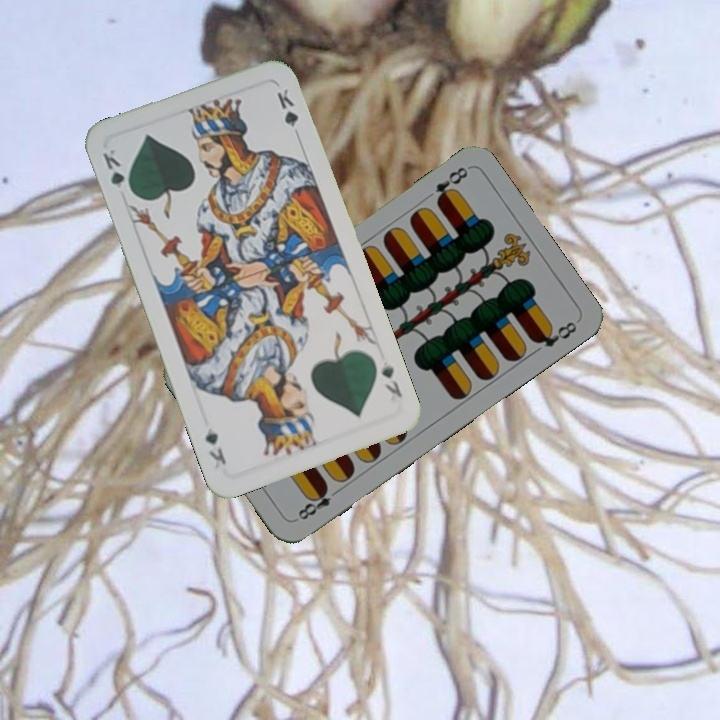E8: (294, 481, 344, 523), (430, 162, 471, 207)
GK: (98, 145, 136, 198), (377, 361, 405, 400)
